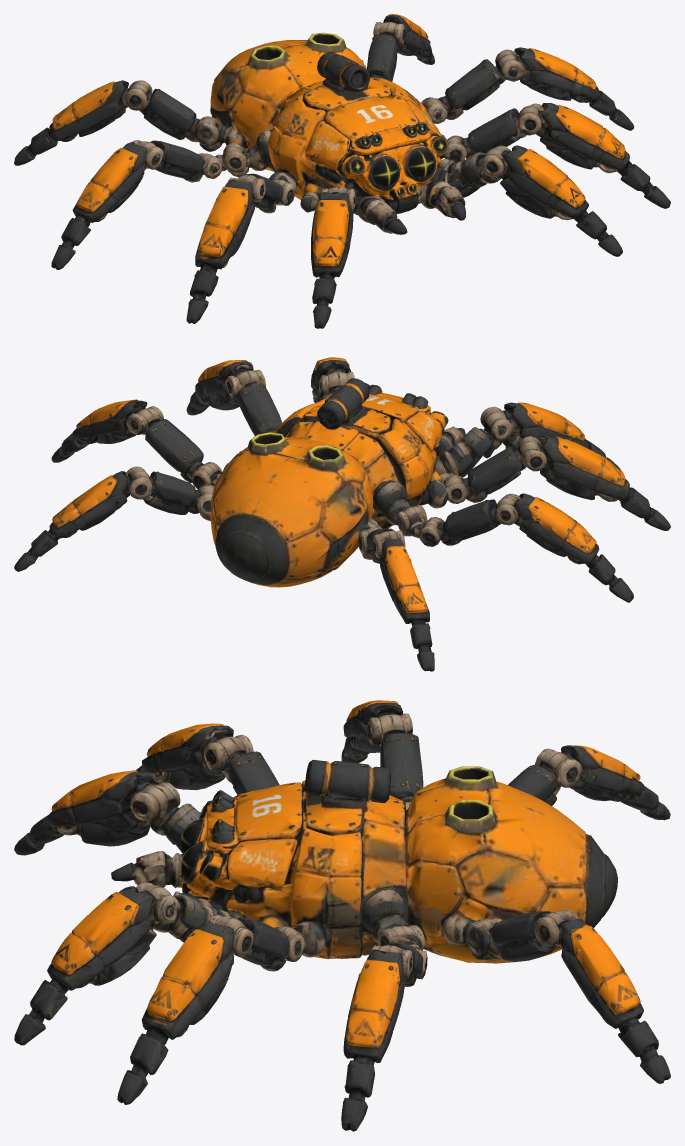
Rendered from jumping-spider.glb.
3 renders of one model, top to bottom at view 1: azimuth 30°, elevation 25°; view 2: azimuth 150°, elevation 25°; view 3: azimuth 270°, elevation 25°, orthographic. The views are drawn at different scales.
Size of the model in its own units: 3.4 by 0.8193 by 2.55.
1 material, 1 textured.
